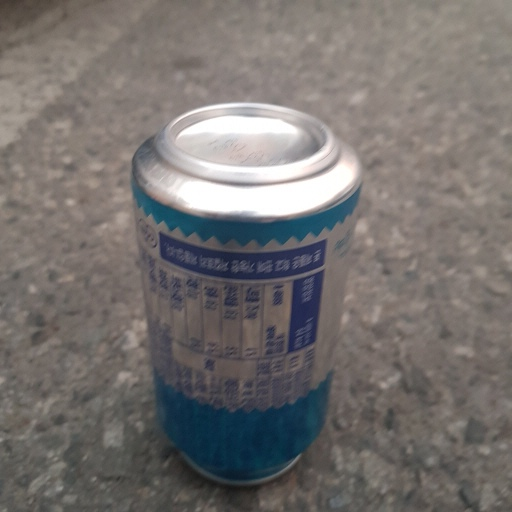Metal_0: (129, 101, 364, 487)
